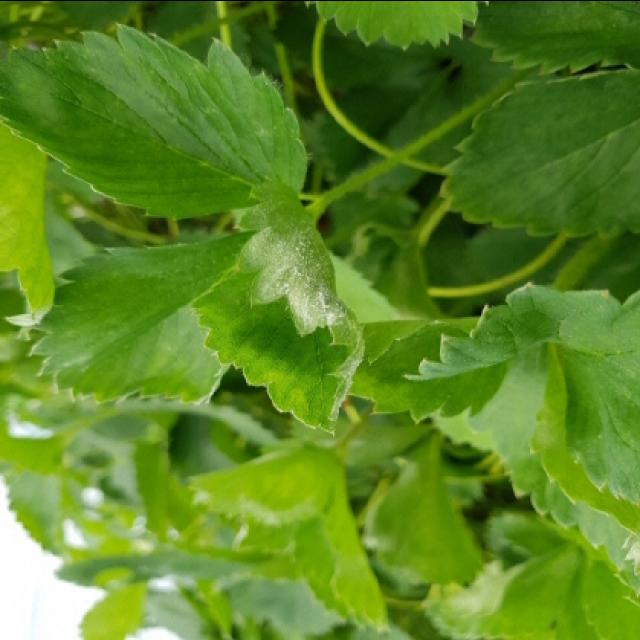Powdery Mildew Leaf: (190, 180, 366, 436)
